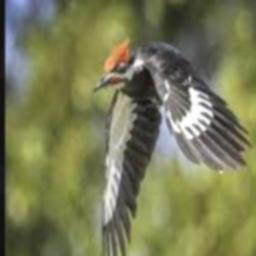Woodpecker: (93, 36, 253, 256)
